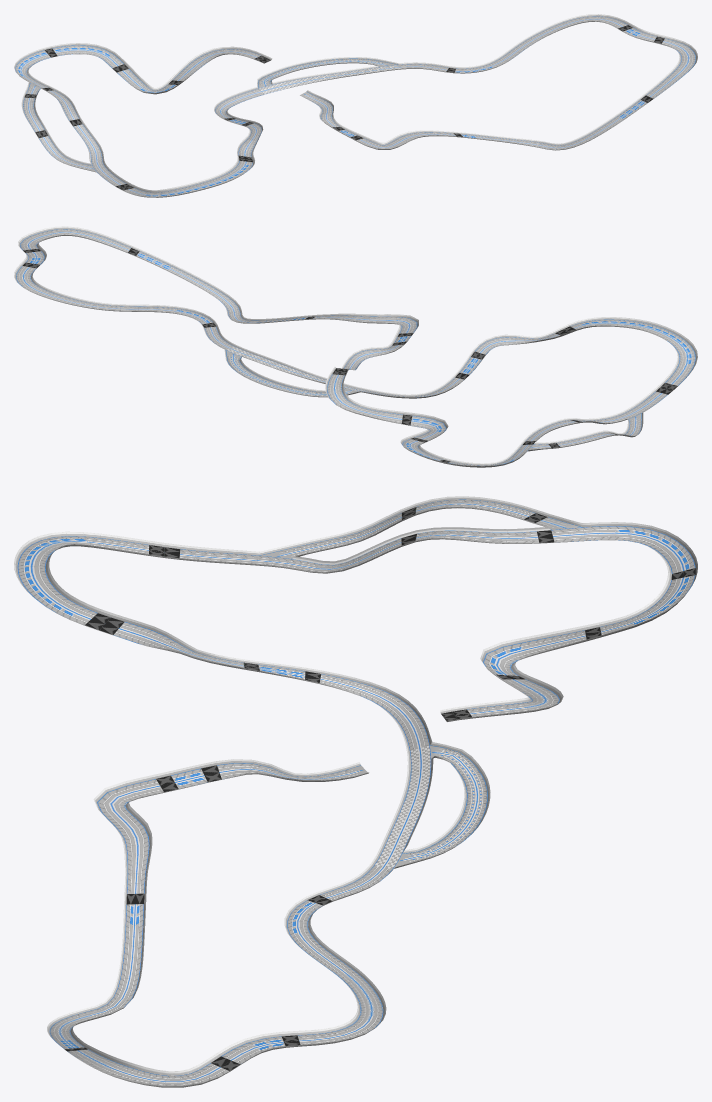
The model's file is LunaBackup.FBX.
The picture shows the model from 3 angles, top to bottom: view 1: azimuth 30°, elevation 25°; view 2: azimuth 150°, elevation 25°; view 3: azimuth 270°, elevation 25°; orthographic projection. The views are drawn at different scales.
Parts seen in each view (by area): view 1: TRACKFLOOR, TRACKWALLS; view 2: TRACKFLOOR, TRACKWALLS; view 3: TRACKFLOOR, TRACKWALLS.
Boxes of the visible parts, x1,y1,x2,y2 form: TRACKFLOOR: (15, 16, 695, 196); TRACKWALLS: (14, 14, 697, 197); TRACKFLOOR: (16, 229, 695, 466); TRACKWALLS: (14, 226, 697, 467); TRACKFLOOR: (17, 499, 695, 1085); TRACKWALLS: (14, 496, 697, 1087).
Size of the model in its own units: 252 by 27.32 by 131.
